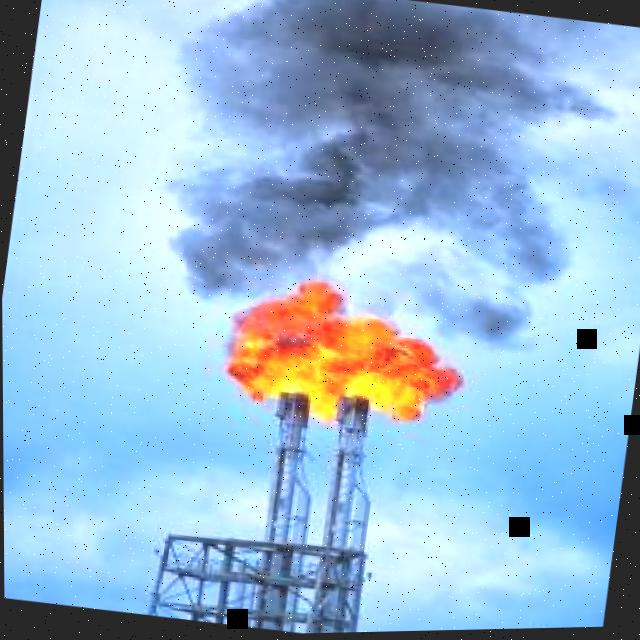fire: (225, 282, 463, 426)
smoke: (163, 0, 640, 301), (327, 245, 536, 356)
